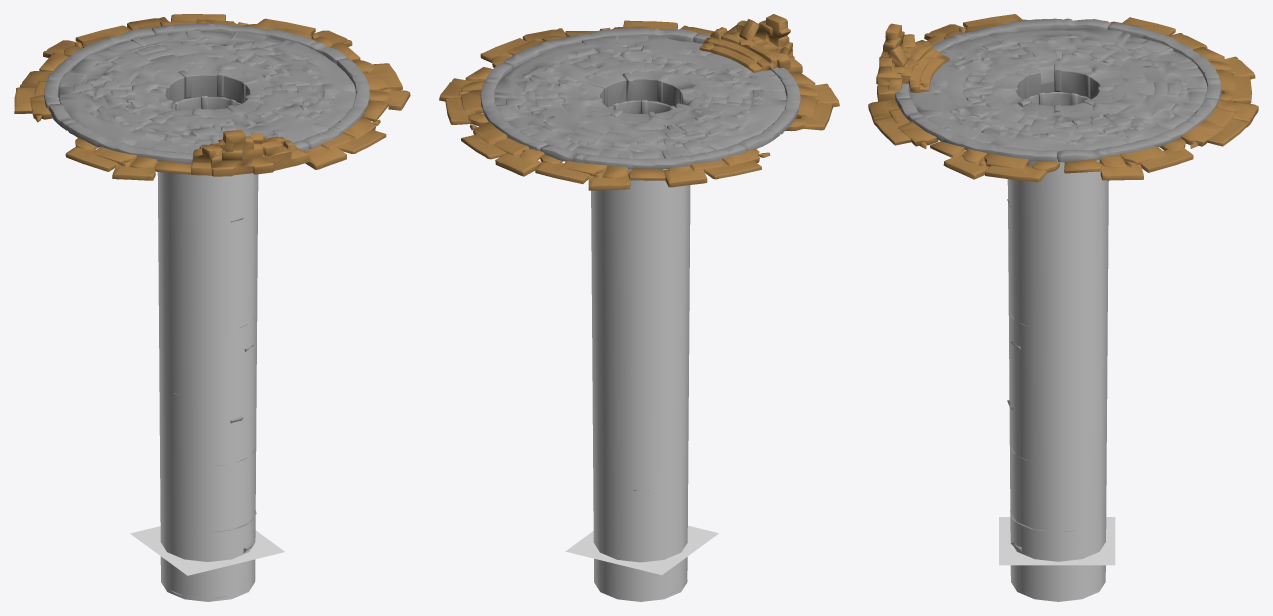
Rendered from Well.FBX.
The picture shows the model from 3 angles, left to right: view 1: azimuth 30°, elevation 25°; view 2: azimuth 150°, elevation 25°; view 3: azimuth 270°, elevation 25°; orthographic projection.
Parts seen in each view (by area): view 1: Light_blocker, Well_main, Well_steps, Steps_movable; view 2: Light_blocker, Well_main, Well_steps, Steps_movable; view 3: Light_blocker, Well_main, Well_steps, Steps_movable.
Part boxes in pixels (x1=…): Light_blocker: x1=130, y1=161, x2=284, y2=601; Well_main: x1=44, y1=23, x2=369, y2=598; Well_steps: x1=14, y1=14, x2=410, y2=180; Steps_movable: x1=191, y1=129, x2=309, y2=176; Light_blocker: x1=565, y1=169, x2=718, y2=601; Well_main: x1=480, y1=28, x2=800, y2=594; Well_steps: x1=439, y1=20, x2=839, y2=190; Steps_movable: x1=699, y1=14, x2=802, y2=73; Light_blocker: x1=999, y1=159, x2=1115, y2=601; Well_main: x1=895, y1=18, x2=1221, y2=592; Well_steps: x1=868, y1=14, x2=1258, y2=182; Steps_movable: x1=876, y1=23, x2=949, y2=101.
Size of the model in its own units: 1540 by 2292 by 1542.
